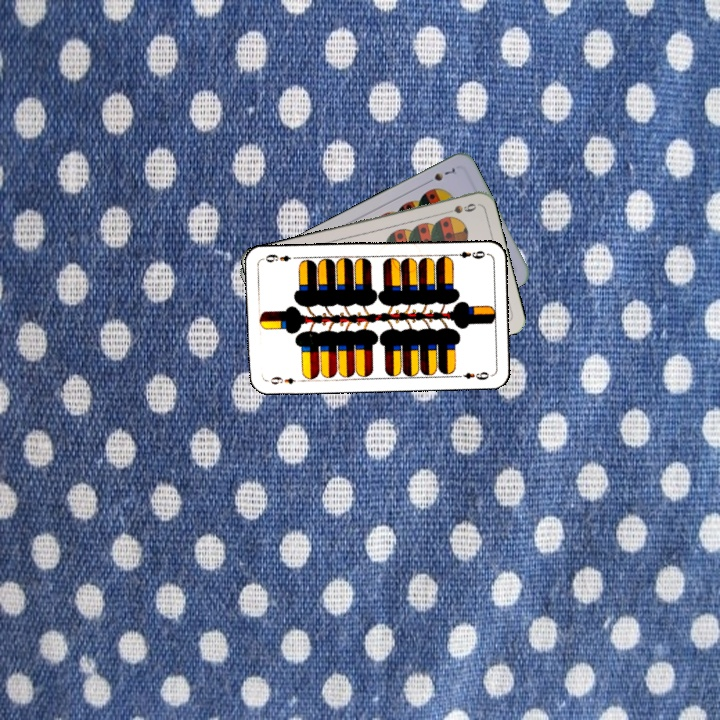E9: (449, 246, 489, 261), (264, 373, 304, 387)
S7: (422, 164, 458, 187)
S9: (439, 199, 479, 217)
